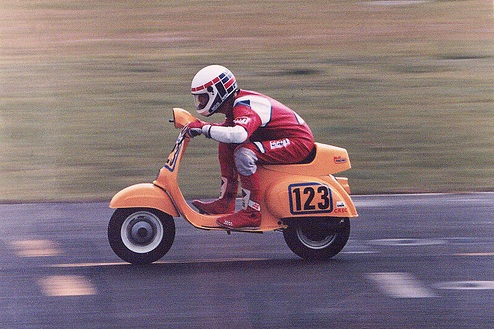with_helmet: (187, 64, 240, 116)
